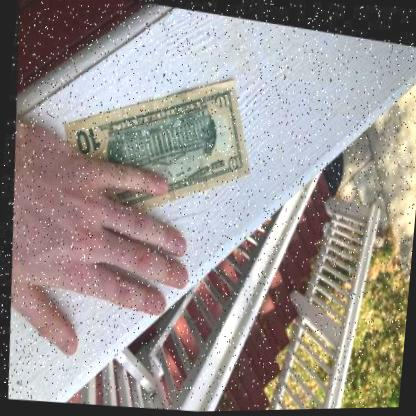ten-back: (60, 77, 248, 225)
